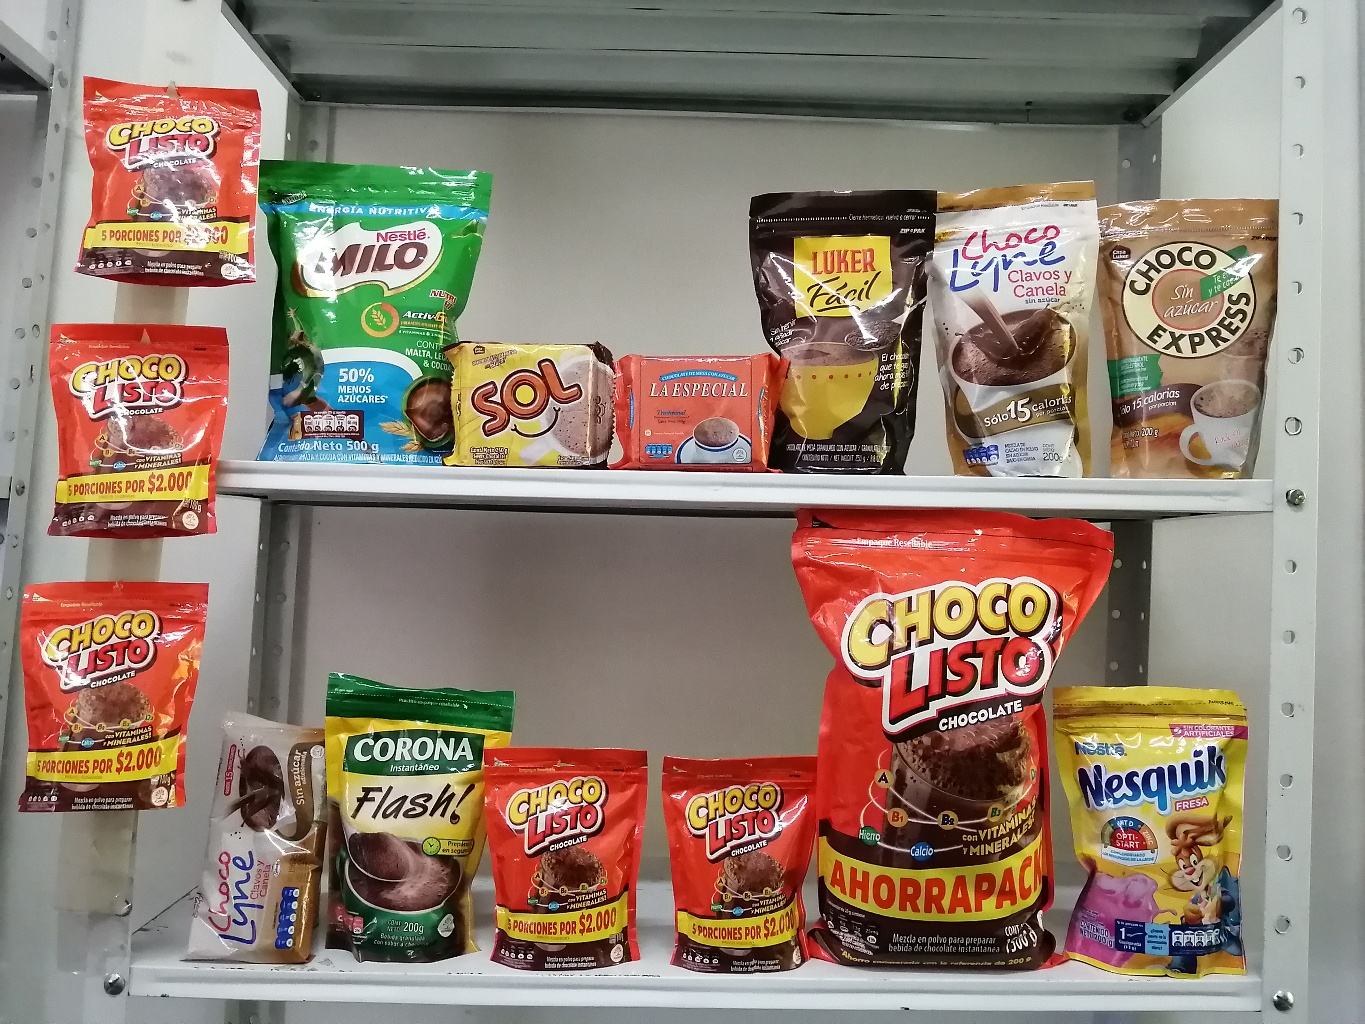COL0170103DYP1,500: (784, 506, 1113, 992)
COL0170205DYP50000: (251, 139, 487, 460)
COL0170305DYP20000: (1060, 680, 1269, 976)
